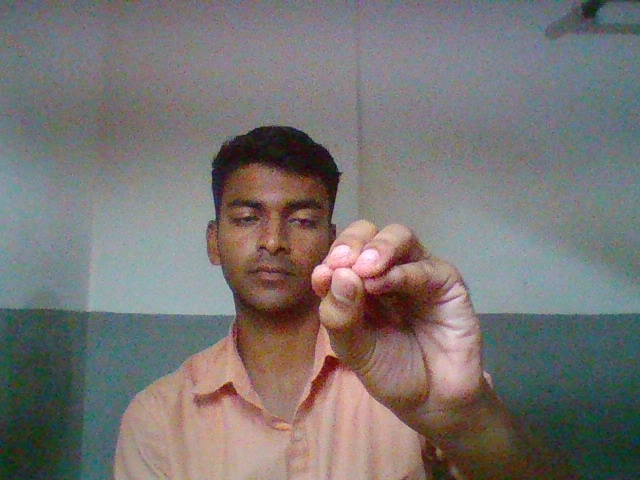Z: (288, 211, 502, 412)
